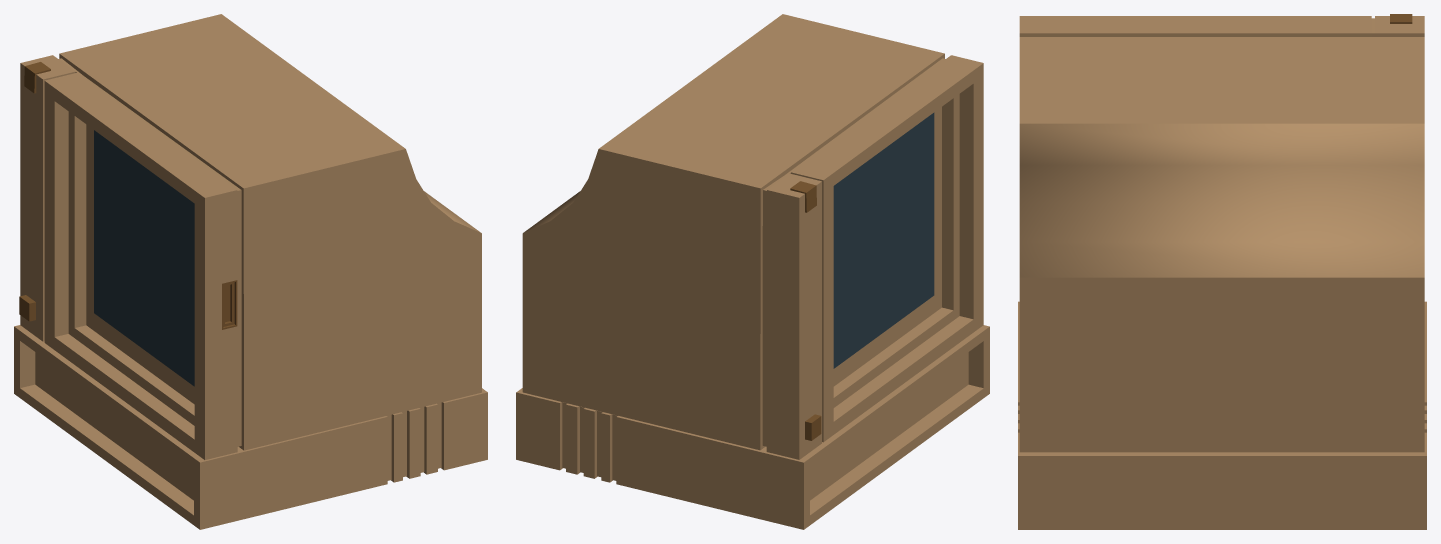
The model's file is monitor_tier4.fbx.
The picture shows the model from 3 angles, left to right: view 1: azimuth 30°, elevation 25°; view 2: azimuth 150°, elevation 25°; view 3: azimuth 270°, elevation 25°; orthographic projection. The views are drawn at different scales.
Visible parts, largest first — view 1: Cube, Cube.001; view 2: Cube, Cube.001; view 3: Cube, Cube.001.
Boxes of the visible parts, left/top/right/bottom form: Cube: left=20, top=14, right=481, bottom=459; Cube.001: left=14, top=325, right=487, bottom=529; Cube: left=522, top=14, right=983, bottom=459; Cube.001: left=516, top=325, right=989, bottom=529; Cube: left=1019, top=14, right=1424, bottom=452; Cube.001: left=1018, top=301, right=1426, bottom=529.
Bounding box in the file's own units: 0.6689 × 0.734 × 0.7459.
